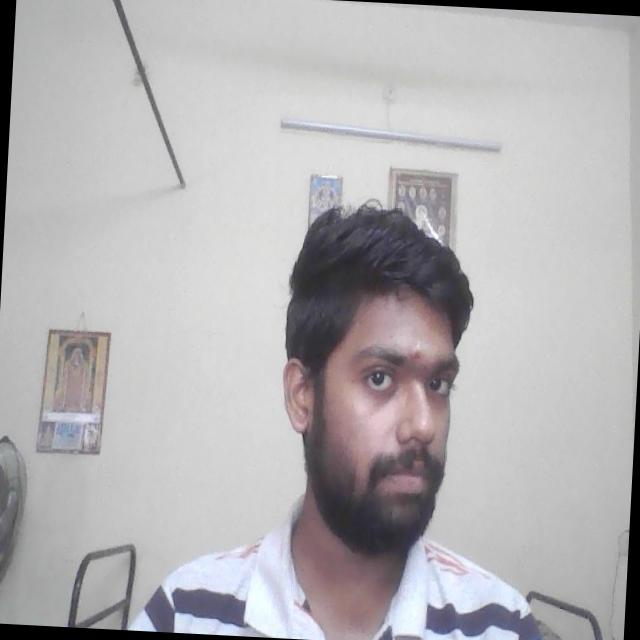Focused: (278, 288, 472, 522)
